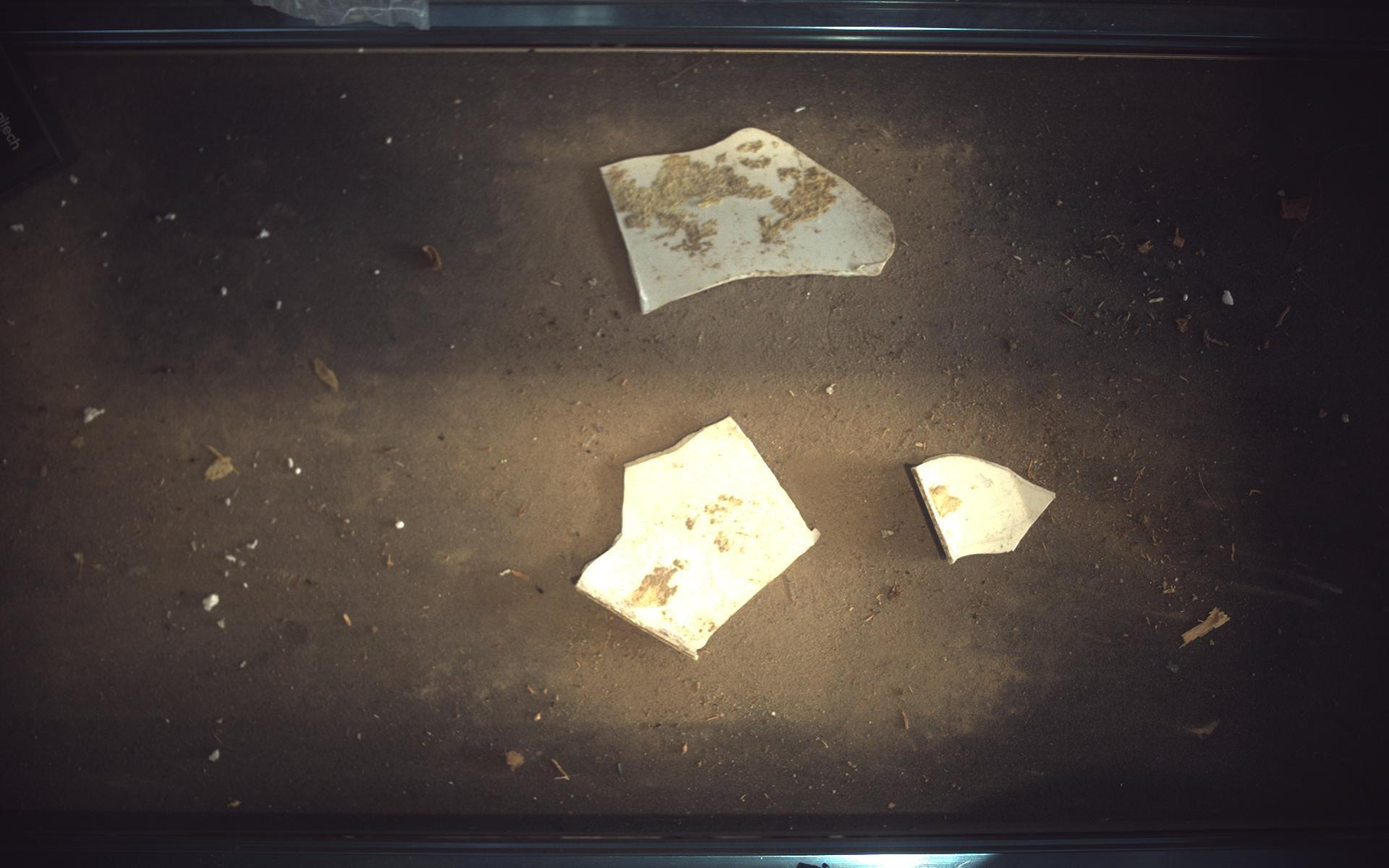plastic: (577, 417, 821, 660), (601, 127, 897, 312), (911, 455, 1058, 563)
